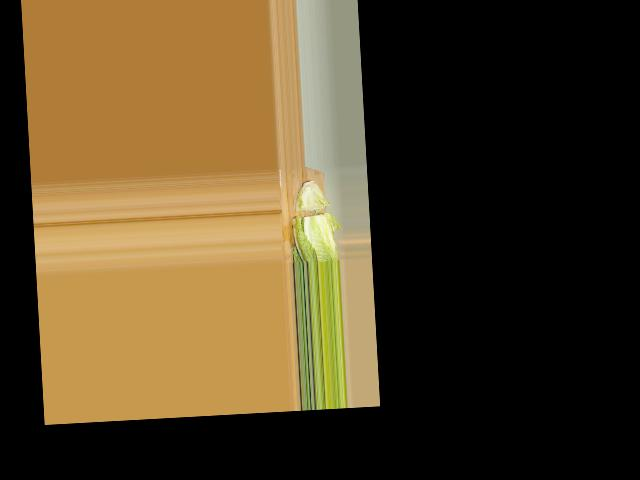lettuce: (285, 180, 340, 262)
